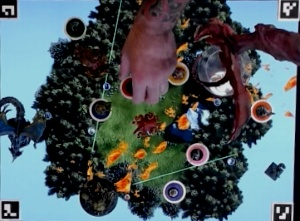blue: (88, 97, 114, 122)
green: (62, 17, 85, 40)
orange: (251, 98, 276, 124)
pink: (184, 141, 211, 166)
red: (120, 74, 142, 98)
violet: (162, 177, 187, 202)
yellow: (167, 58, 191, 85)
